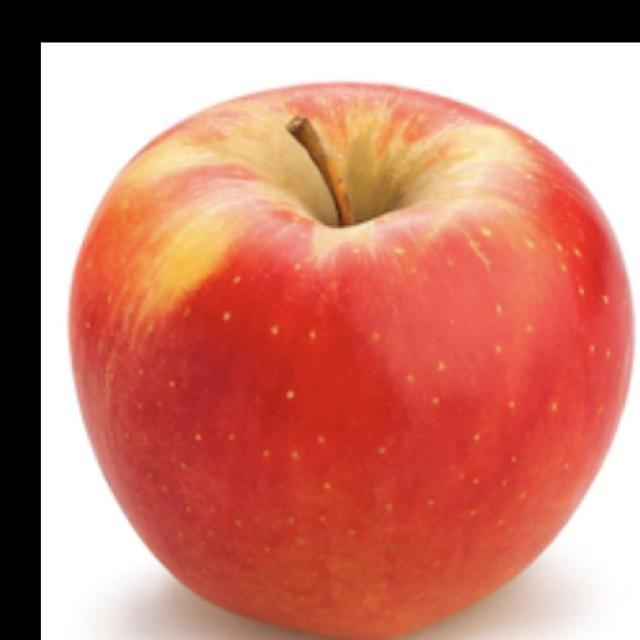Fresh Apple: (83, 85, 640, 640)
